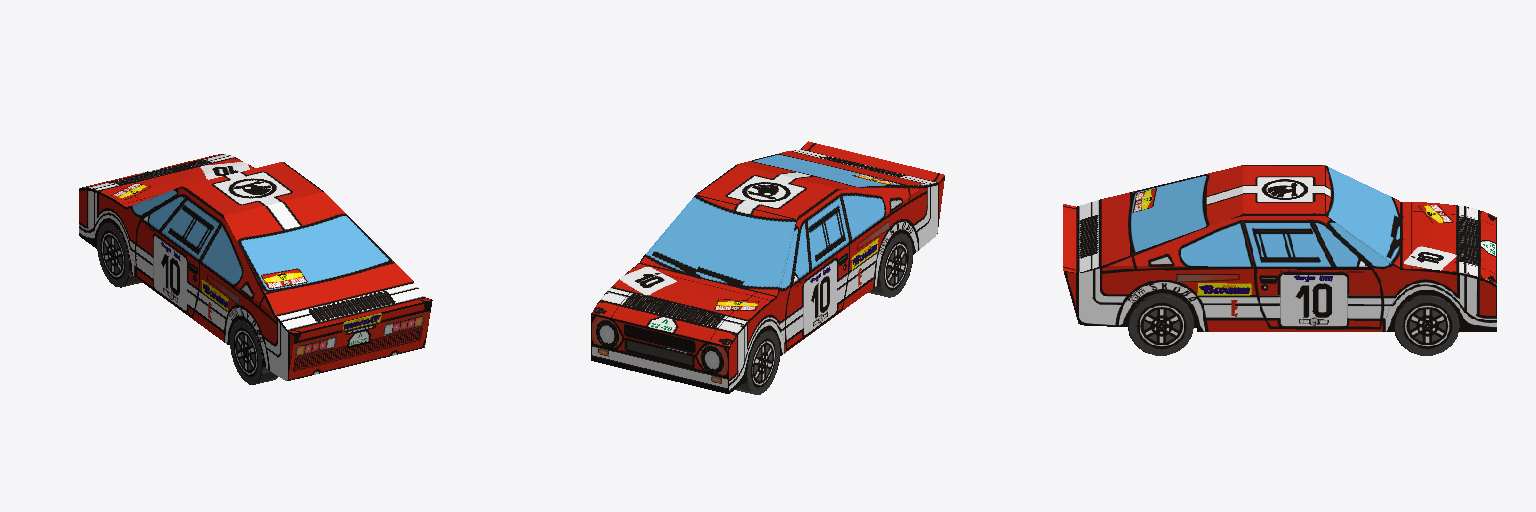
3 renders of one model, left to right at view 1: azimuth 30°, elevation 25°; view 2: azimuth 150°, elevation 25°; view 3: azimuth 270°, elevation 25°, orthographic.
Visible parts, largest first — view 1: Box001, Cylinder002, Cylinder001; view 2: Box001, Cylinder002, Cylinder001; view 3: Box001, Cylinder003, Cylinder004.
Boxes of the visible parts, box(x1,y1,x2,y2) form: Box001: box(79, 154, 432, 380); Cylinder002: box(230, 320, 277, 384); Cylinder001: box(97, 223, 141, 287); Box001: box(591, 141, 944, 393); Cylinder002: box(868, 233, 912, 297); Cylinder001: box(735, 330, 780, 394); Box001: box(1063, 165, 1496, 331); Cylinder003: box(1393, 296, 1459, 355); Cylinder004: box(1128, 296, 1193, 355).
Bounding box in the file's own units: 2.14 × 1.95 × 5.8.
Materials: 1 (1 with a texture image).